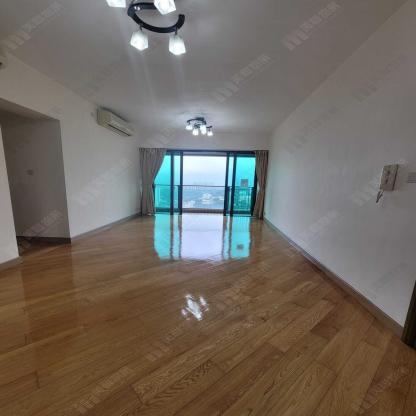AC: (97, 109, 135, 139)
